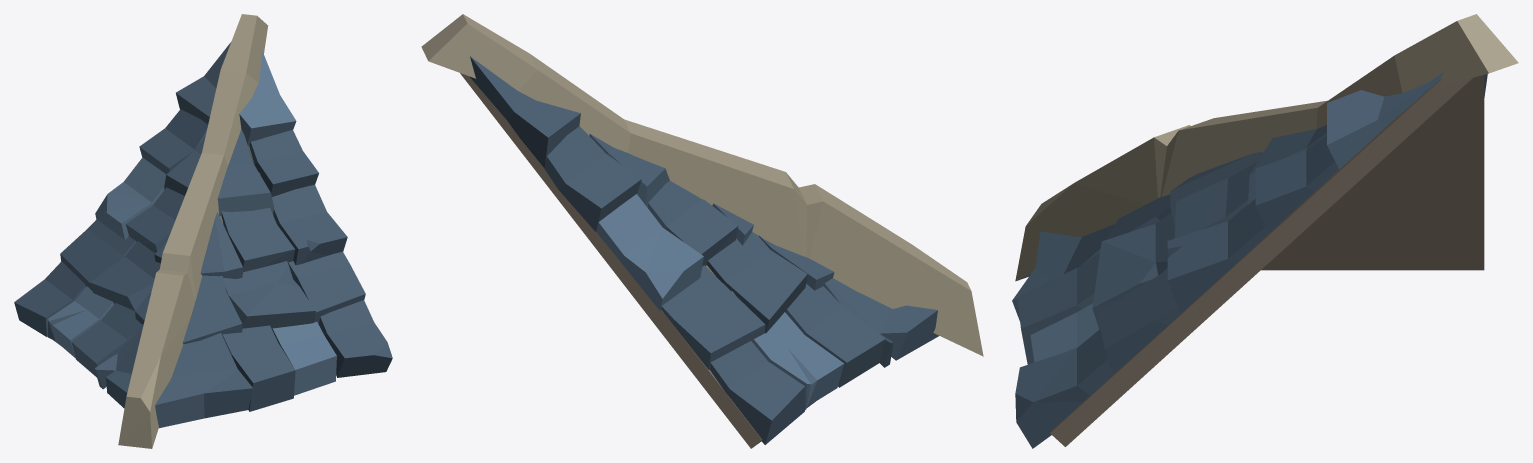
Rendered from _ROOF_CORNER_OUT_1.fbx.
3 views of the same model, side by side, from view 1: azimuth 30°, elevation 25°; view 2: azimuth 150°, elevation 25°; view 3: azimuth 270°, elevation 25° (orthographic). The views are drawn at different scales.
Visible parts, largest first — view 1: ROOF_CORNER_OUT_1; view 2: ROOF_CORNER_OUT_1; view 3: ROOF_CORNER_OUT_1.
Part boxes in pixels (x1,y1,x2,y2): ROOF_CORNER_OUT_1: (14, 14, 392, 448); ROOF_CORNER_OUT_1: (421, 14, 983, 448); ROOF_CORNER_OUT_1: (1012, 14, 1518, 448).
Size of the model in its own units: 127 by 120 by 121.
